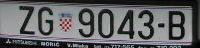-: (158, 23, 164, 27)
0: (98, 9, 114, 38)
3: (138, 9, 154, 40)
4: (117, 10, 135, 40)
9: (79, 8, 94, 37)
B: (168, 10, 185, 39)
G: (38, 6, 53, 35)
Z: (19, 6, 34, 35)
